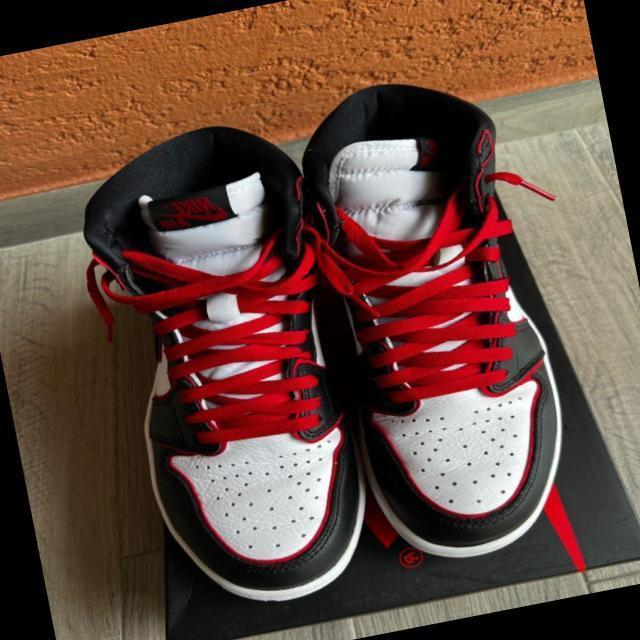nike original jordan 1: (66, 110, 390, 628), (276, 56, 596, 578)
